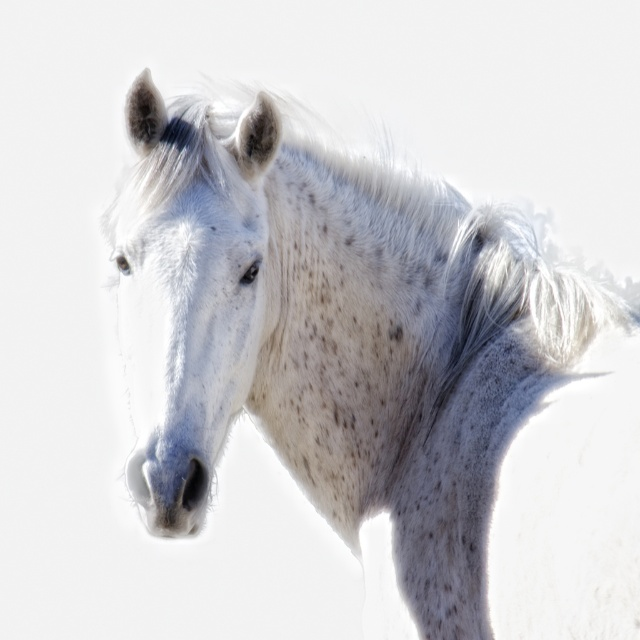Horse: (98, 67, 639, 639)
